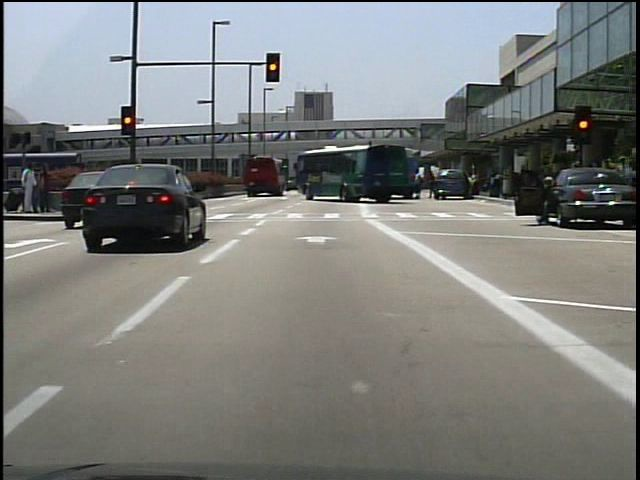person: (534, 171, 563, 227), (20, 162, 41, 216), (36, 162, 53, 220), (408, 167, 422, 201), (465, 169, 477, 199)
